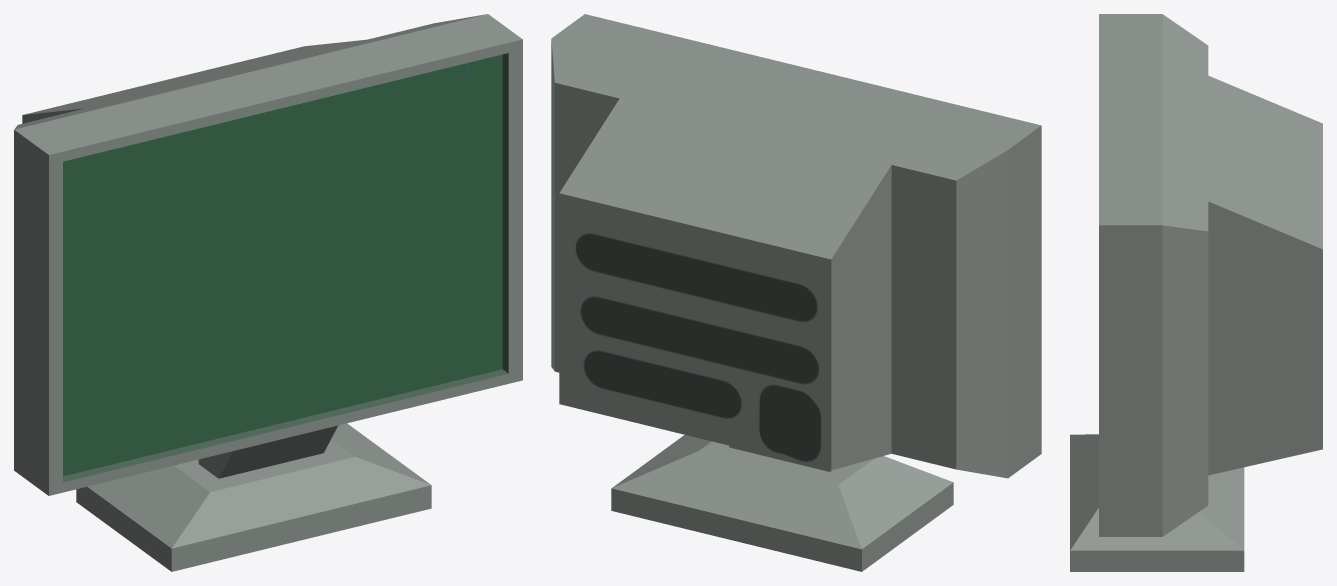
Rendered from Komputer.fbx.
3 renders of one model, left to right at view 1: azimuth 30°, elevation 25°; view 2: azimuth 150°, elevation 25°; view 3: azimuth 270°, elevation 25°, orthographic. The views are drawn at different scales.
Visible parts, largest first — view 1: PM3D_Cube3D1_2; view 2: PM3D_Cube3D1_2; view 3: PM3D_Cube3D1_2.
Boxes of the visible parts, box(x1,y1,x2,y2) form: PM3D_Cube3D1_2: box(14, 14, 522, 571); PM3D_Cube3D1_2: box(551, 14, 1041, 571); PM3D_Cube3D1_2: box(1070, 14, 1322, 571).
Bounding box in the file's own units: 299 × 260 × 151.
